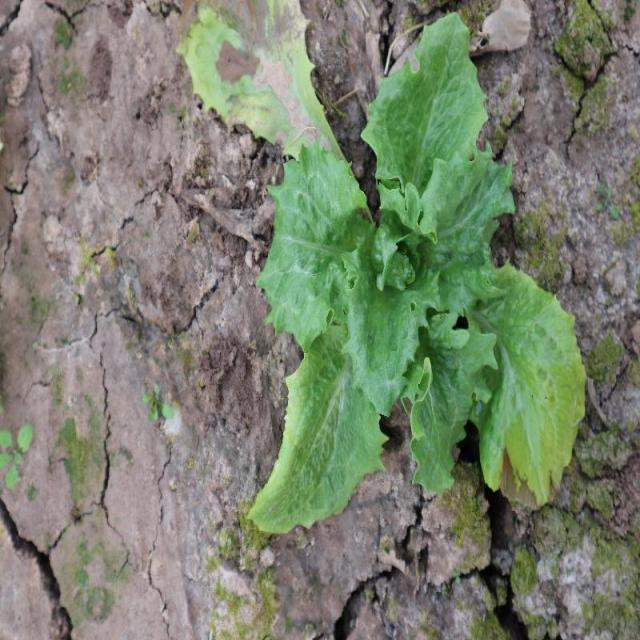crop: (251, 15, 587, 536)
